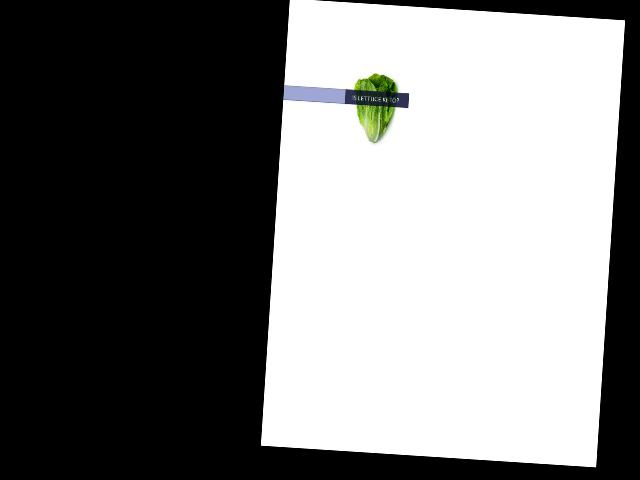lettuce: (349, 72, 402, 150)
